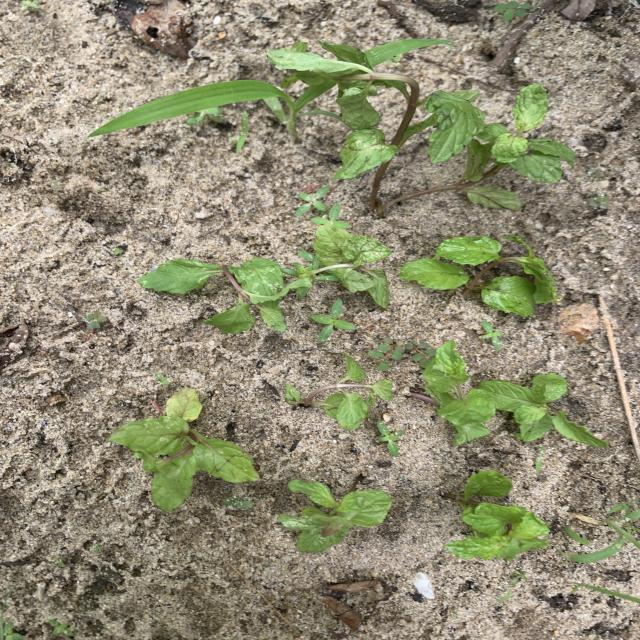crop: (269, 50, 574, 217), (110, 389, 258, 510), (400, 237, 560, 315), (138, 257, 290, 332), (480, 373, 607, 447), (444, 471, 548, 559), (411, 341, 496, 446), (292, 223, 390, 307), (285, 353, 391, 428), (279, 482, 391, 551)
weed: (90, 80, 341, 139), (364, 40, 451, 65), (311, 300, 355, 340), (369, 338, 411, 370), (561, 541, 623, 562), (573, 585, 639, 603), (297, 186, 329, 214), (312, 204, 348, 227), (378, 422, 403, 455), (494, 1, 535, 19), (479, 321, 502, 347), (410, 342, 435, 364), (611, 500, 639, 519), (236, 112, 248, 154), (50, 620, 74, 635), (2, 622, 23, 639), (85, 312, 107, 328), (566, 527, 588, 543), (222, 497, 252, 508), (590, 196, 610, 208), (511, 571, 527, 583), (22, 1, 38, 9), (498, 592, 511, 601), (157, 375, 169, 383), (113, 248, 122, 254)
